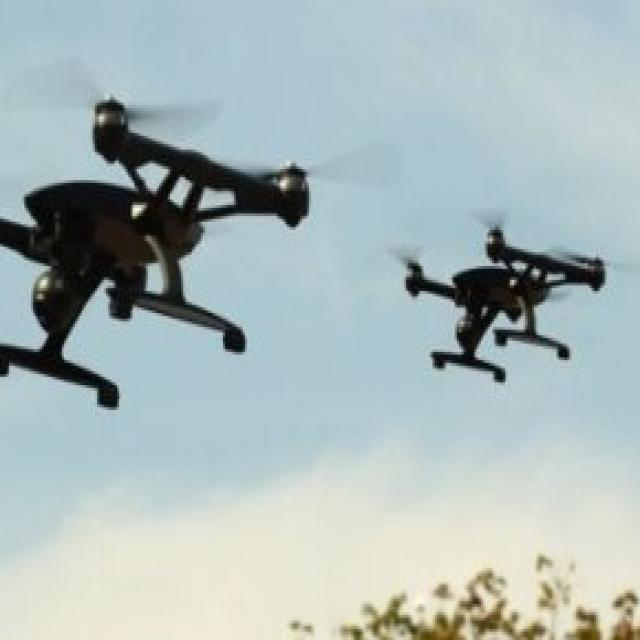drone: (0, 92, 349, 430), (373, 205, 640, 405)
